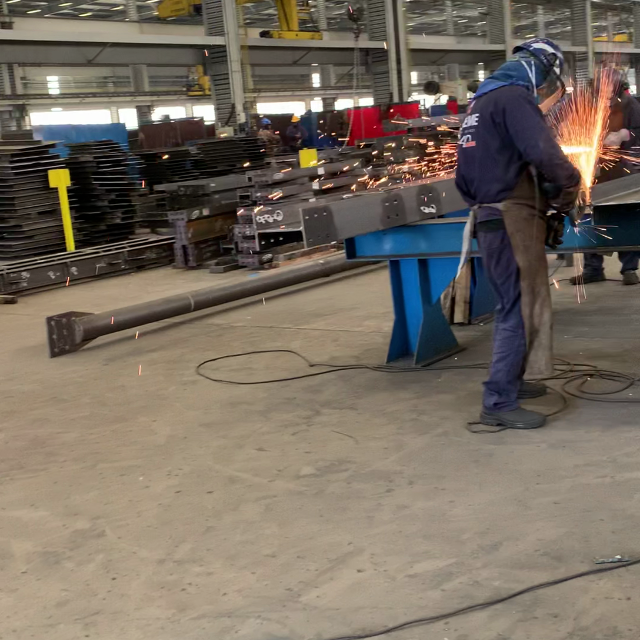face-shield: (531, 61, 572, 117)
helmet: (511, 37, 568, 74)
person: (454, 38, 584, 430)
safety-shoe: (478, 403, 546, 430), (516, 381, 549, 400)
